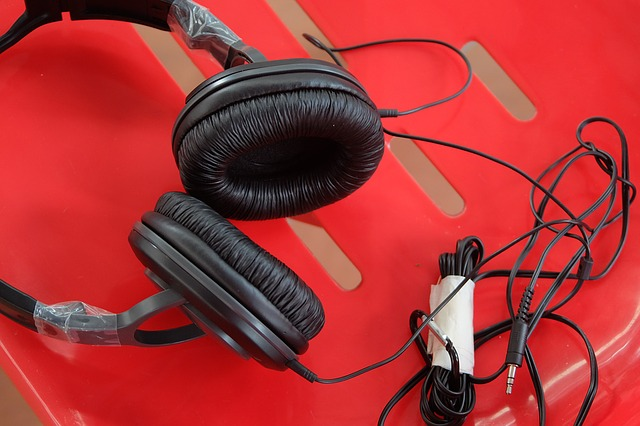headphones: (1, 1, 385, 372)
